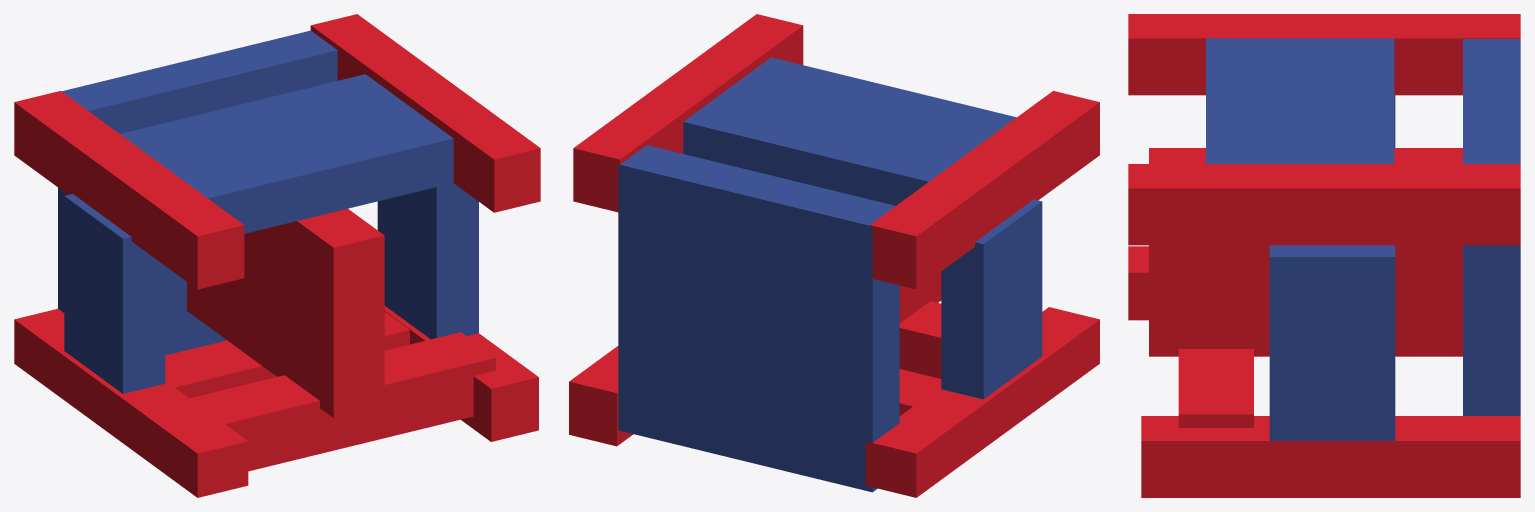
The model's file is tinker.obj.
3 views of the same model, side by side, from view 1: azimuth 30°, elevation 25°; view 2: azimuth 150°, elevation 25°; view 3: azimuth 270°, elevation 25° (orthographic). The views are drawn at different scales.
Visible parts, largest first — view 1: group_0_15277357, group_0_3888547; view 2: group_0_3888547, group_0_15277357; view 3: group_0_15277357, group_0_3888547.
Boxes of the visible parts, x1=… form: group_0_15277357: x1=14, y1=14, x2=540, y2=497; group_0_3888547: x1=58, y1=30, x2=478, y2=393; group_0_3888547: x1=618, y1=57, x2=1042, y2=492; group_0_15277357: x1=569, y1=14, x2=1099, y2=497; group_0_15277357: x1=1128, y1=14, x2=1520, y2=497; group_0_3888547: x1=1206, y1=38, x2=1520, y2=440.
Size of the model in its own units: 84 by 65 by 75.
